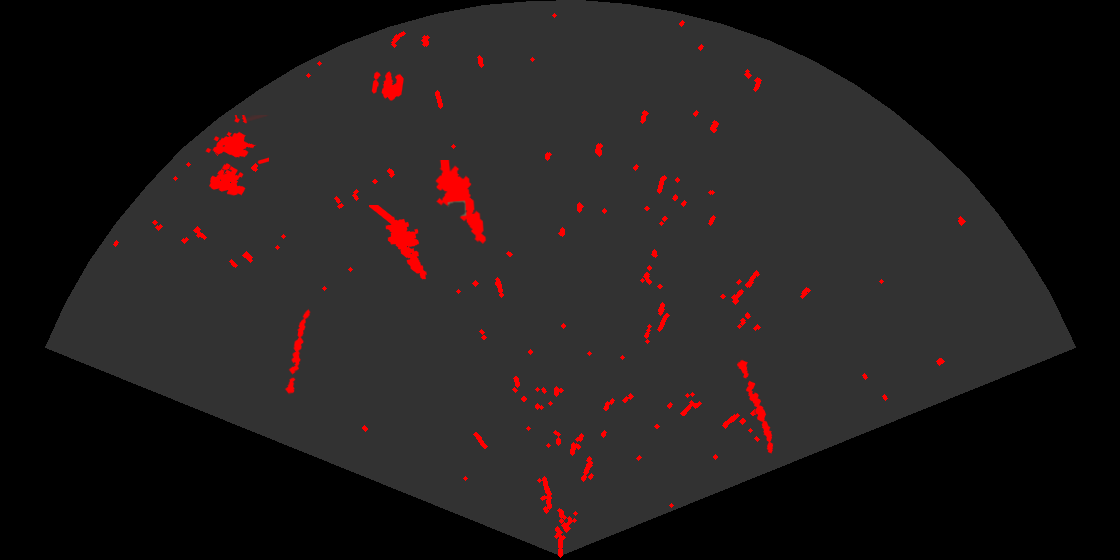ball: (370, 70, 405, 102)
cage: (204, 115, 269, 197)
chain: (735, 357, 775, 455), (283, 307, 312, 395)
frogman: (434, 160, 488, 246), (369, 205, 429, 281)
